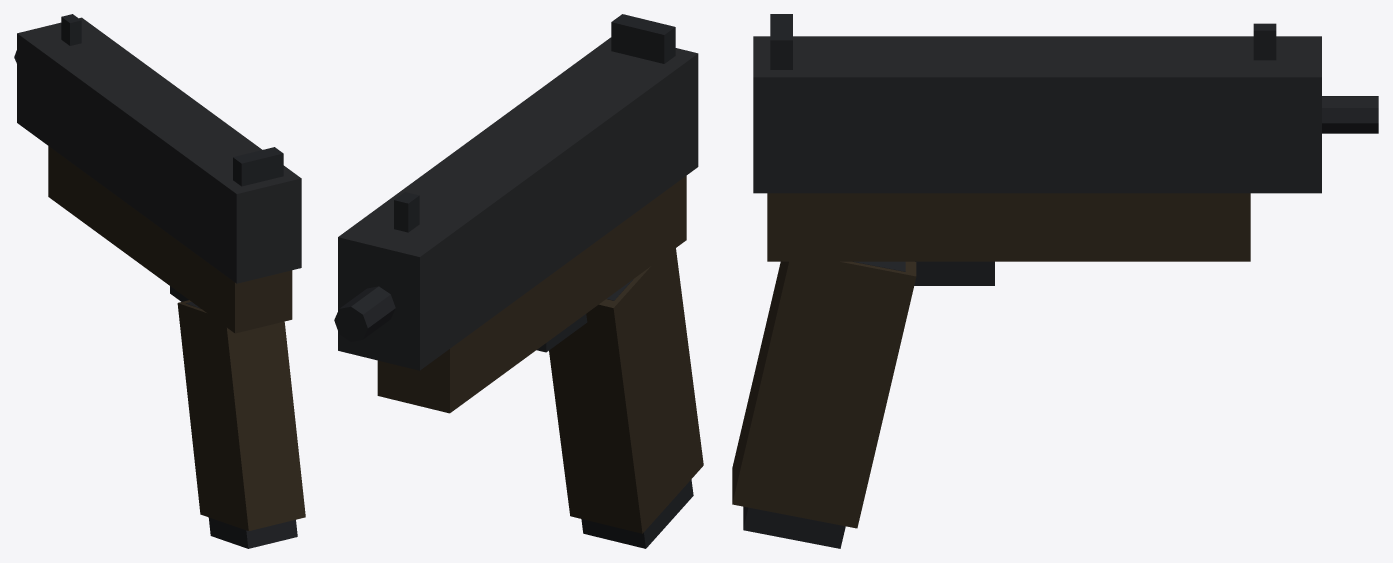
File: weapon_pmm.glb
3 views of the same model, side by side, from view 1: azimuth 30°, elevation 25°; view 2: azimuth 150°, elevation 25°; view 3: azimuth 270°, elevation 25° (orthographic). The views are drawn at different scales.
Visible parts, largest first — view 1: body, mag; view 2: body, mag; view 3: body, mag.
Boxes of the visible parts, x1=… form: body: x1=14, y1=14, x2=305, y2=530; mag: x1=186, y1=302, x2=297, y2=548; body: x1=334, y1=14, x2=703, y2=533; mag: x1=581, y1=279, x2=693, y2=548; body: x1=732, y1=14, x2=1378, y2=528; mag: x1=743, y1=261, x2=905, y2=548.
Size of the model in its own units: 0.034 by 0.1964 by 0.2274.
